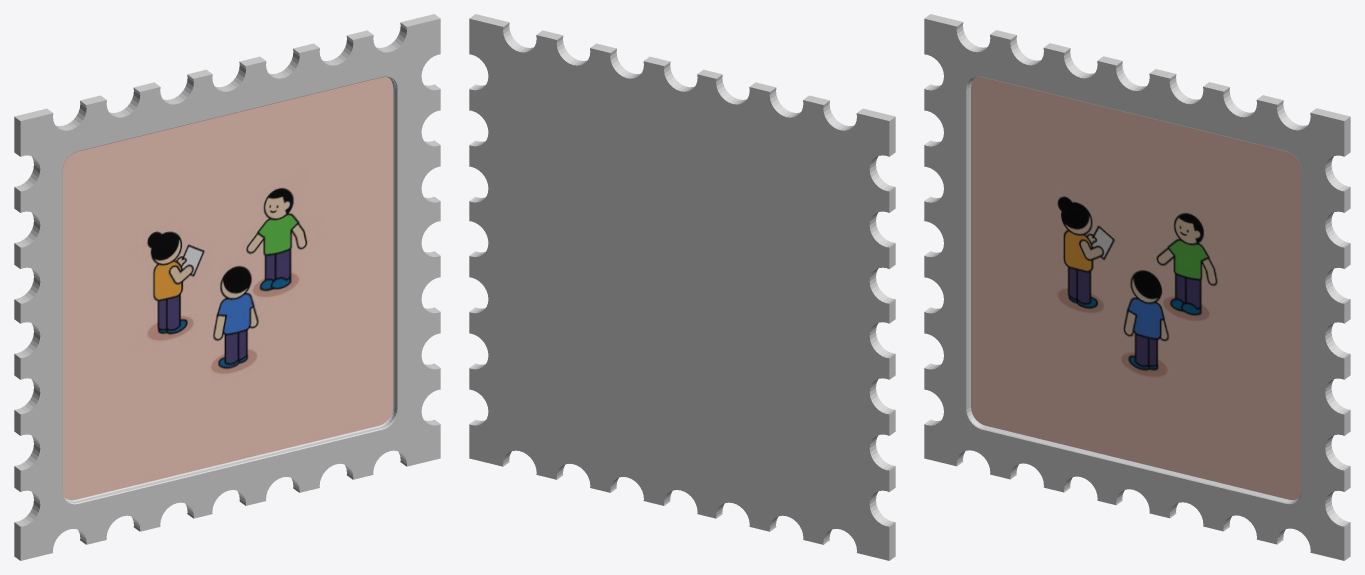
Rendered from B_Olivia_13.glb.
3 views of the same model, side by side, from view 1: azimuth 30°, elevation 25°; view 2: azimuth 150°, elevation 25°; view 3: azimuth 330°, elevation 25° (orthographic).
Parts seen in each view (by area): view 1: Plane013, Plane012; view 2: Plane012; view 3: Plane013, Plane012.
Boxes of the visible parts, x1=… form: Plane013: x1=63, y1=77, x2=393, y2=500; Plane012: x1=14, y1=14, x2=440, y2=560; Plane012: x1=469, y1=14, x2=895, y2=560; Plane013: x1=971, y1=77, x2=1301, y2=499; Plane012: x1=924, y1=14, x2=1350, y2=560.
Bounding box in the file's own units: 0.3 × 0.3 × 0.00781.
Materials: 2 (1 with a texture image).
